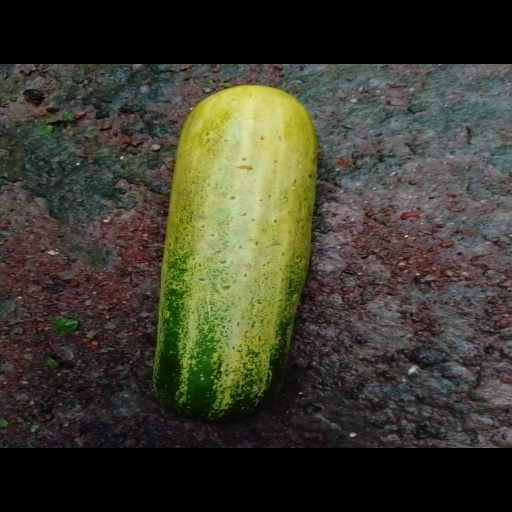concombre: (152, 84, 318, 423)
